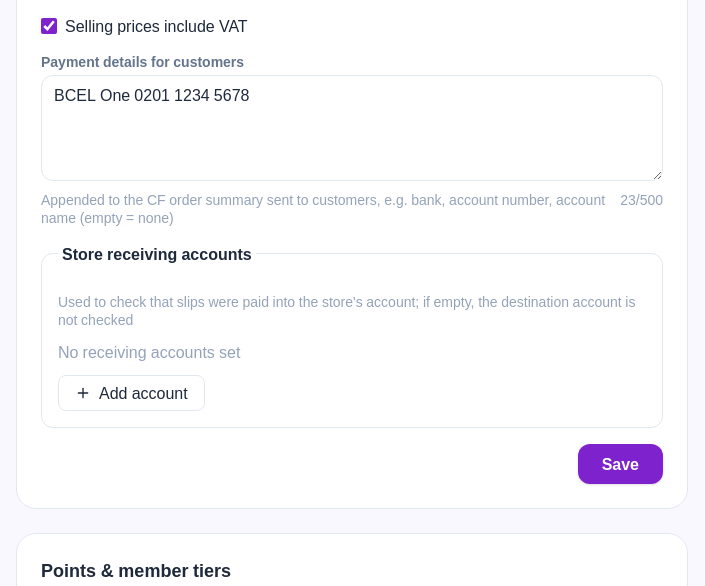
Test: StoreSettingsForm › ບັນຊີຮັບເງິນ (receivingAccounts) › ບັນຊີທີ່ເລກບັນຊີບໍ່ມີຕົວເລກ → error ແລະ ບໍ່ຍິງ API; ລຶບແຖວໄດ້
(page scrolled)
Expected: the text "No receiving accounts set" is shown, [58,338,240,364]
Step 1. Click the button "Add account" → click(131, 392), box [58,374,205,410]
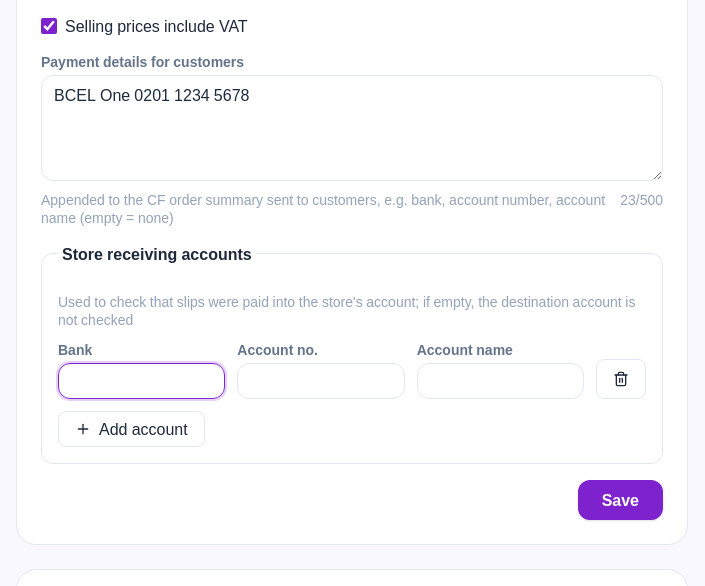
Step 2. Type "BCEL" into the field labelled "Bank" → (142, 380), box [58,362,225,398]
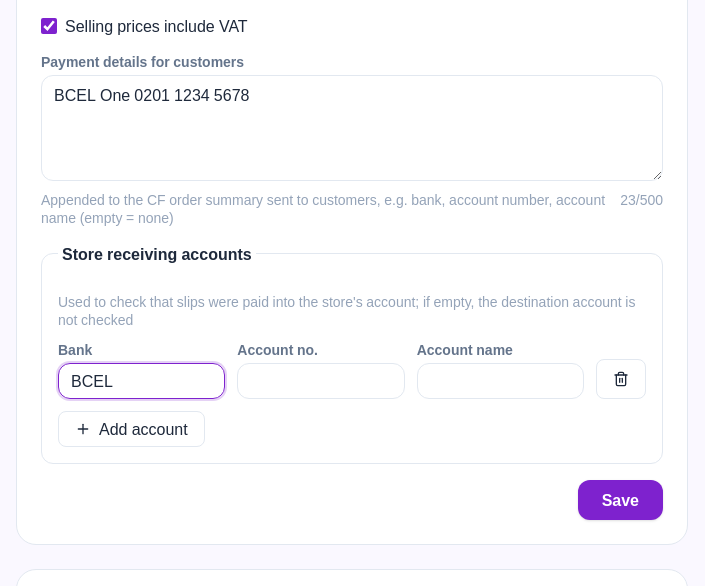
Step 3. Type "abc" into the field labelled "Account no." → (321, 380), box [237,362,405,398]
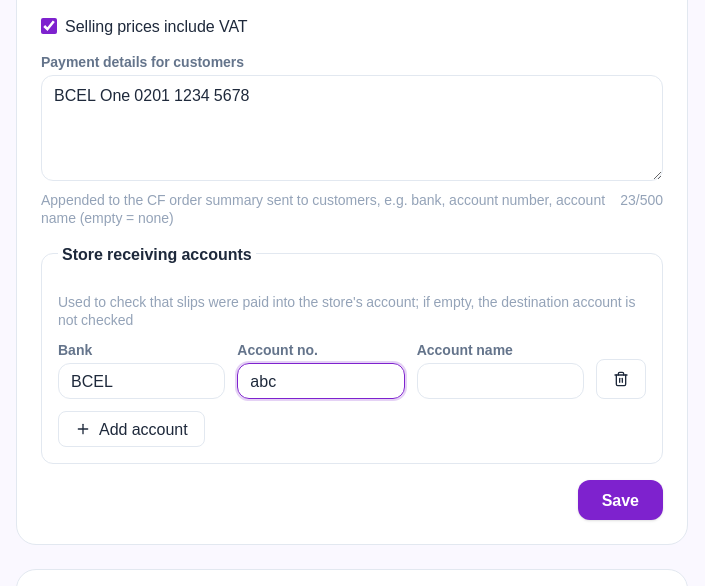
Step 4. Click the button "Save" → click(620, 500), box [578,480,663,520]
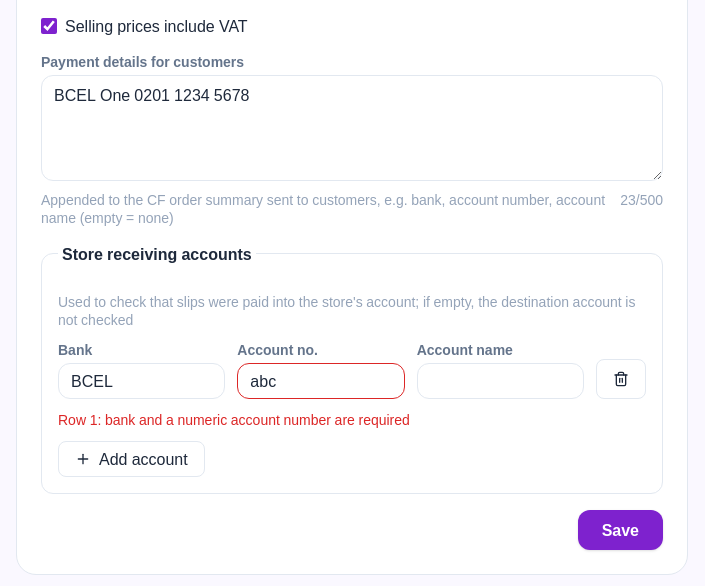
Result: the text "Row 1: bank and a numeric account number are required" is shown at [58,408,410,430]
Step 5. Click the button named "Remove account 1" → click(621, 378), box [596,358,646,398]
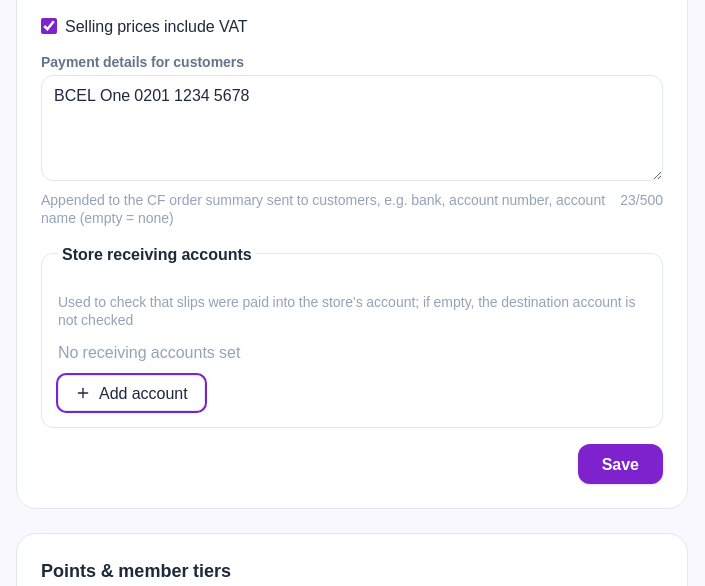
Result: the text "No receiving accounts set" is shown at [58,338,240,364]
